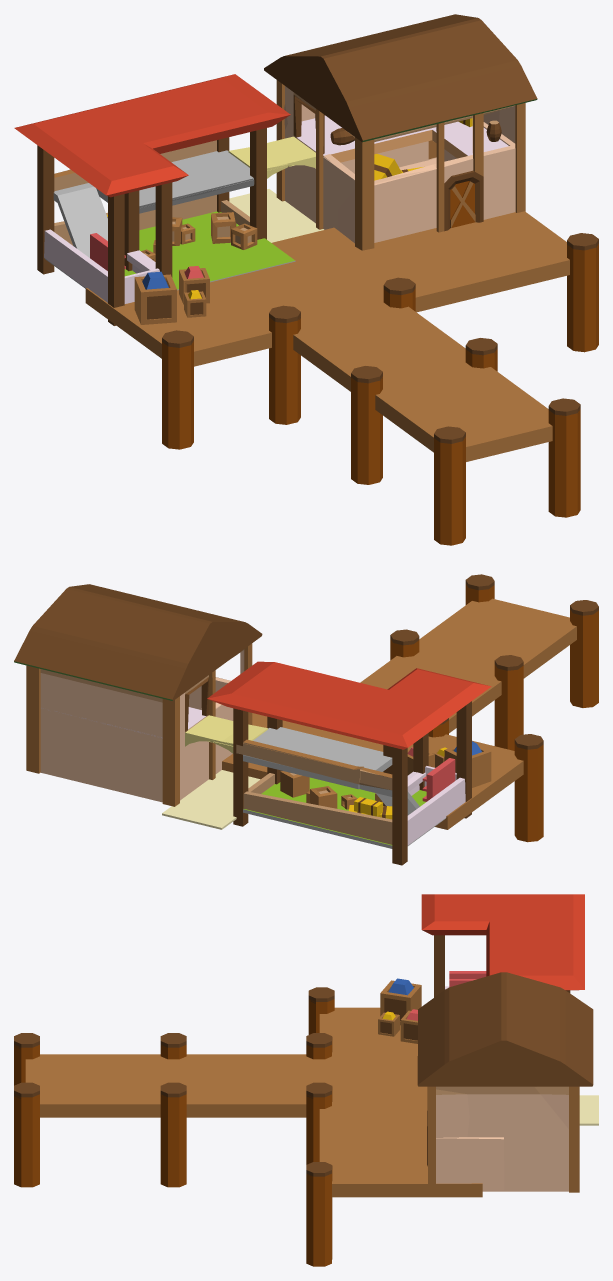
File: TradeDock.fbx
The picture shows the model from 3 angles, top to bottom: view 1: azimuth 30°, elevation 25°; view 2: azimuth 150°, elevation 25°; view 3: azimuth 270°, elevation 25°; orthographic projection. The views are drawn at different scales.
Parts seen in each view (by area): view 1: Dock; view 2: Dock; view 3: Dock.
Part boxes in pixels (x1,y1,x2,y2): Dock: [14, 14, 598, 545]; Dock: [14, 574, 598, 865]; Dock: [14, 894, 598, 1266].
Size of the model in its own units: 150 by 83.12 by 199.
